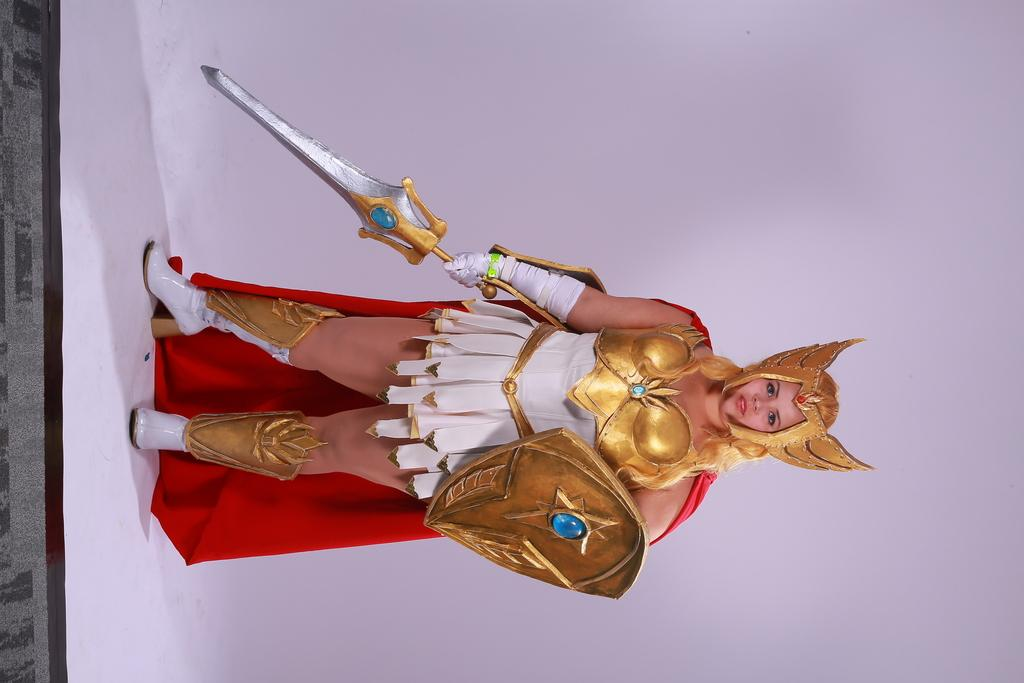Sword: (202, 64, 495, 299)
